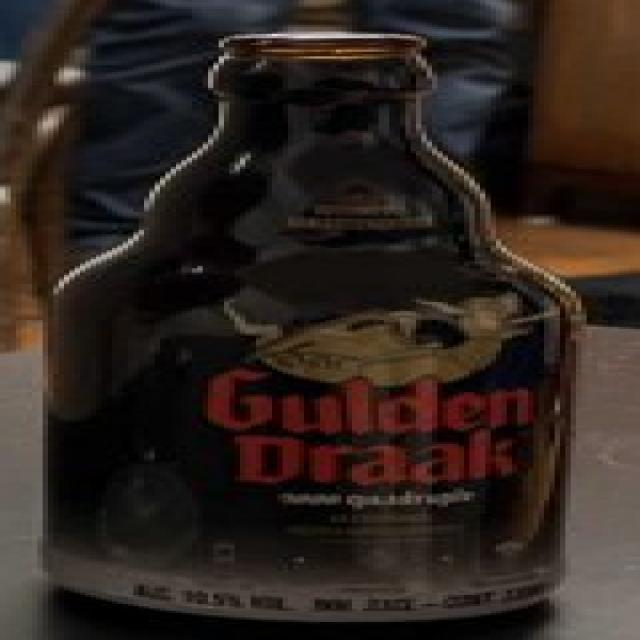Gulden Draak Quadruple: (5, 2, 640, 640)
